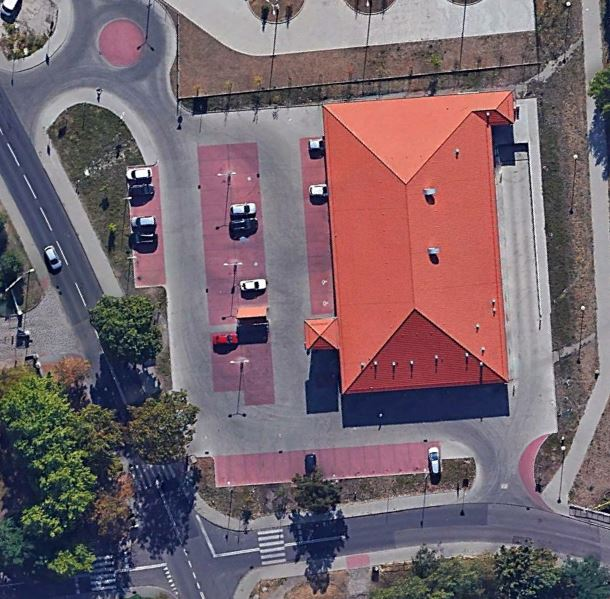shopping_center: (293, 86, 523, 402)
